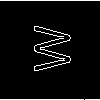W: (25, 24, 70, 72)
